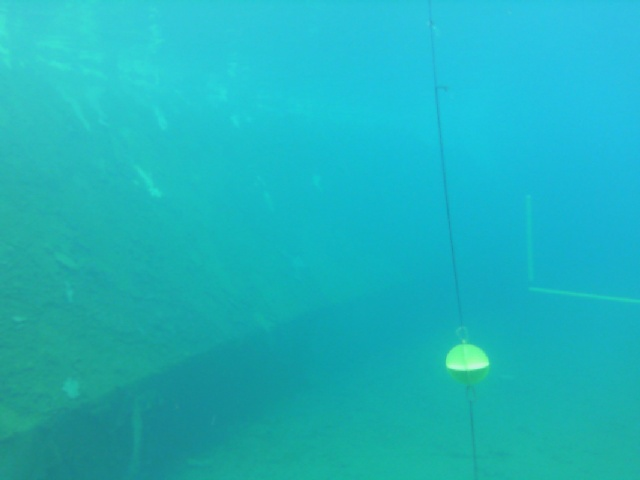buoy_yellow: (446, 341, 488, 390)
